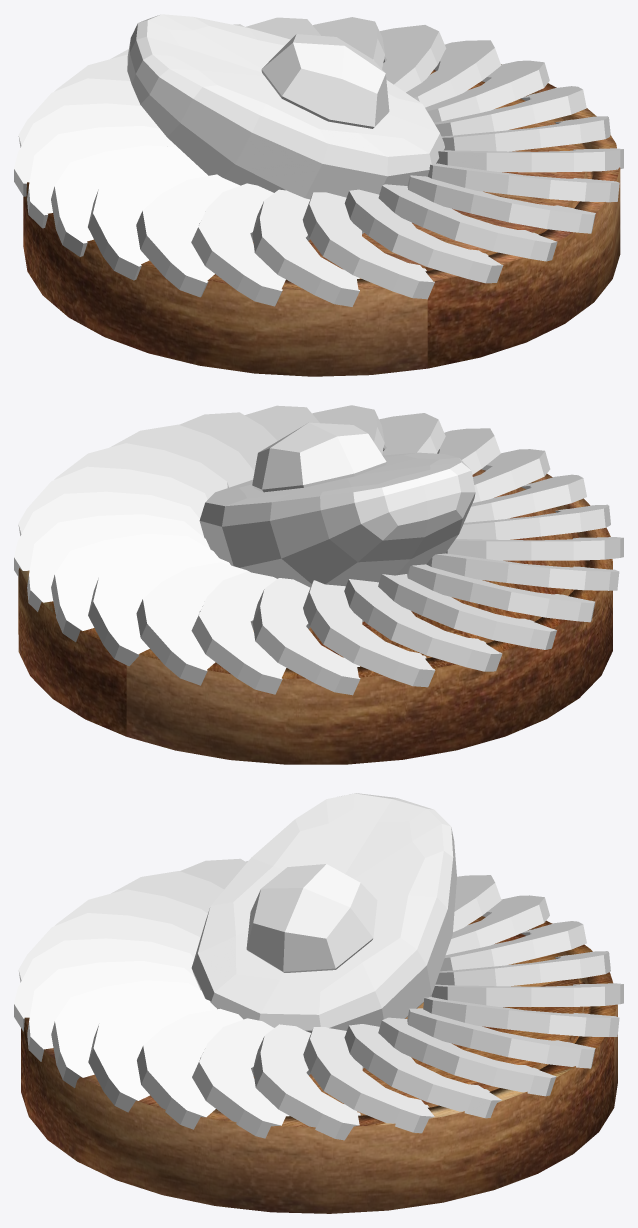
File: avocado.glb
3 renders of one model, top to bottom at view 1: azimuth 30°, elevation 25°; view 2: azimuth 150°, elevation 25°; view 3: azimuth 270°, elevation 25°, orthographic.
Parts seen in each view (by area): view 1: Wooden Cutting Board, Куб.001, Куб.025, Куб.024, Куб.026, Куб.023, Куб.027, Куб.022, Куб.003, Куб.005, Куб.021, Куб.006 (+12 smaller); view 2: Wooden Cutting Board, Куб.001, Куб.016, Куб.017, Куб.018, Куб.015, Куб.019, Куб.014, Куб.020, Куб.013, Куб.021, Куб.012 (+14 smaller); view 3: Wooden Cutting Board, Куб.001, Куб.008, Куб.009, Куб.010, Куб.007, Куб.011, Куб.006, Куб.012, Куб.005, Куб.013, Куб.003 (+11 smaller).
Part boxes in pixels (left/top/right/bottom): Wooden Cutting Board: left=23, top=64, right=620, bottom=376; Куб.001: left=127, top=14, right=444, bottom=199; Куб.025: left=191, top=183, right=285, bottom=306; Куб.024: left=136, top=174, right=240, bottom=297; Куб.026: left=252, top=189, right=359, bottom=306; Куб.023: left=88, top=162, right=208, bottom=280; Куб.027: left=302, top=192, right=434, bottom=299; Куб.022: left=51, top=145, right=193, bottom=256; Куб.003: left=344, top=189, right=503, bottom=283; Куб.005: left=378, top=184, right=557, bottom=261; Куб.021: left=27, top=126, right=176, bottom=228; Куб.006: left=407, top=175, right=595, bottom=233; Wooden Cutting Board: left=18, top=469, right=612, bottom=764; Куб.001: left=199, top=422, right=475, bottom=587; Куб.016: left=136, top=562, right=250, bottom=685; Куб.017: left=191, top=571, right=286, bottom=694; Куб.018: left=252, top=578, right=360, bottom=695; Куб.015: left=88, top=550, right=230, bottom=666; Куб.019: left=303, top=580, right=435, bottom=687; Куб.014: left=51, top=533, right=218, bottom=642; Куб.020: left=344, top=579, right=502, bottom=671; Куб.013: left=27, top=514, right=210, bottom=611; Куб.021: left=378, top=574, right=556, bottom=649; Куб.012: left=14, top=491, right=204, bottom=576; Wooden Cutting Board: left=21, top=916, right=617, bottom=1213; Куб.001: left=191, top=793, right=456, bottom=1032; Куб.008: left=137, top=1008, right=243, bottom=1129; Куб.009: left=192, top=1018, right=289, bottom=1138; Куб.010: left=253, top=1024, right=360, bottom=1140; Куб.007: left=88, top=996, right=216, bottom=1112; Куб.011: left=303, top=1027, right=434, bottom=1133; Куб.006: left=51, top=980, right=204, bottom=1087; Куб.012: left=344, top=1024, right=501, bottom=1118; Куб.005: left=27, top=961, right=200, bottom=1061; Куб.013: left=378, top=1017, right=556, bottom=1096; Куб.003: left=14, top=938, right=194, bottom=1031.
Size of the model in its own units: 5.02 by 2.01 by 5.02.
Materials: 4 (1 with a texture image).
